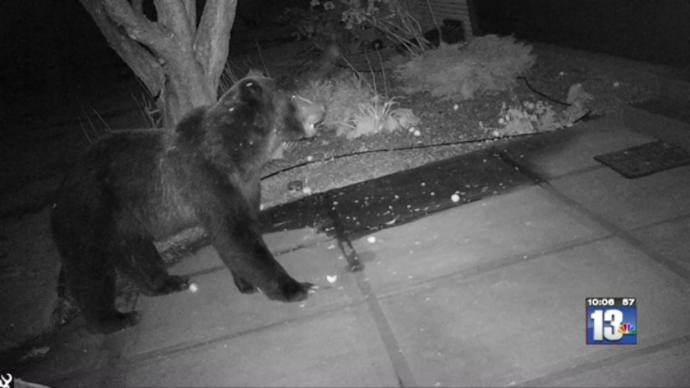bear: (47, 67, 338, 350)
